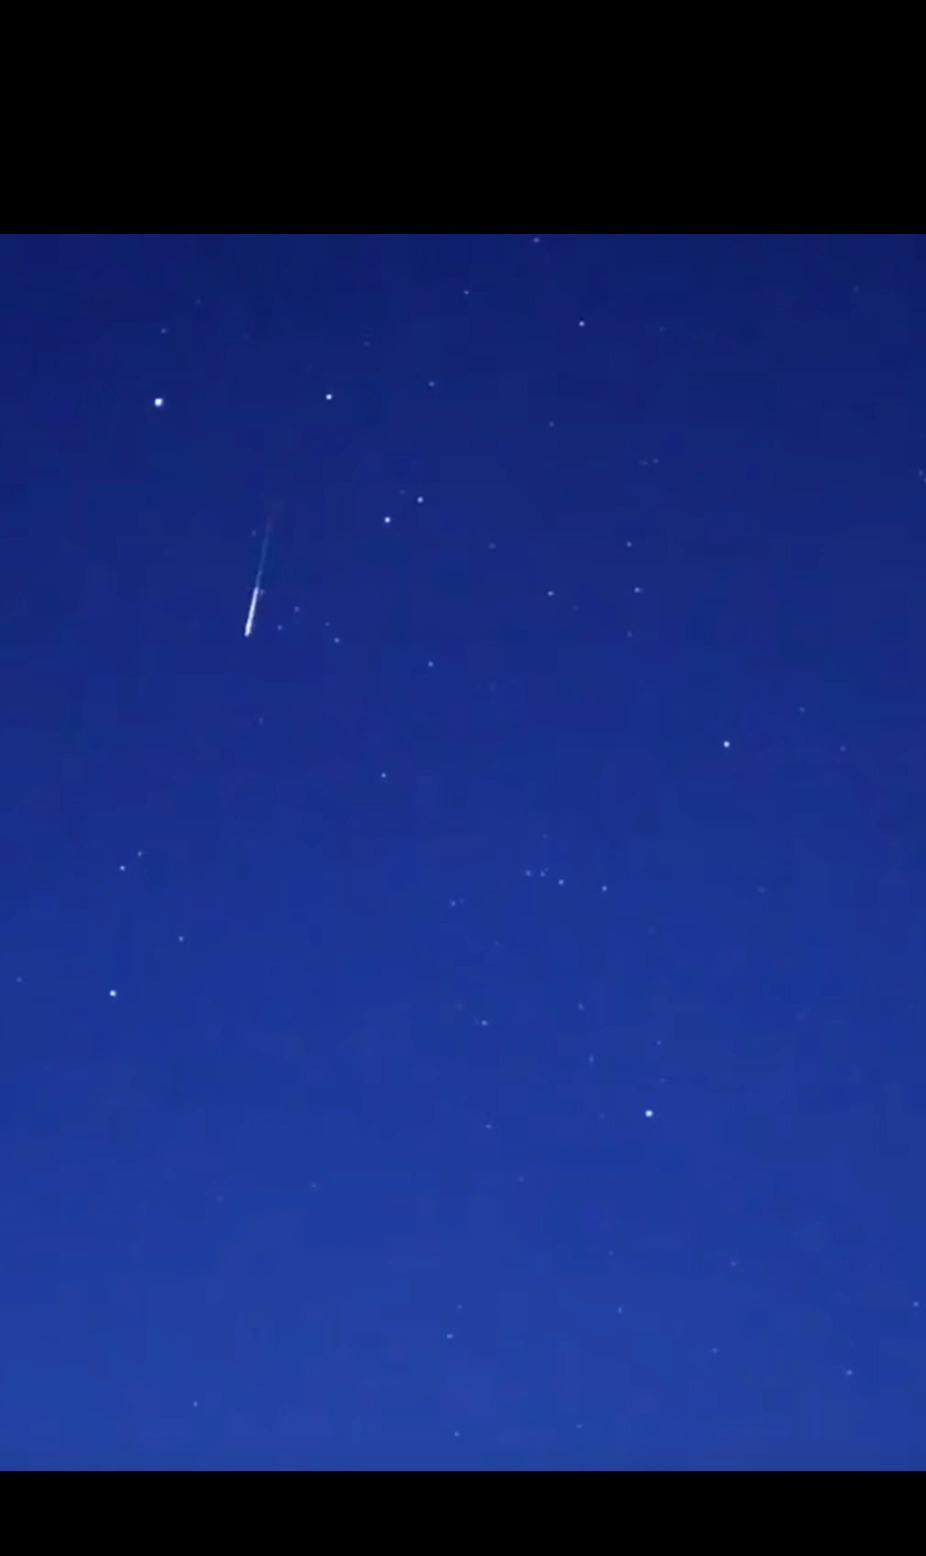meteorite: (224, 491, 300, 657)
